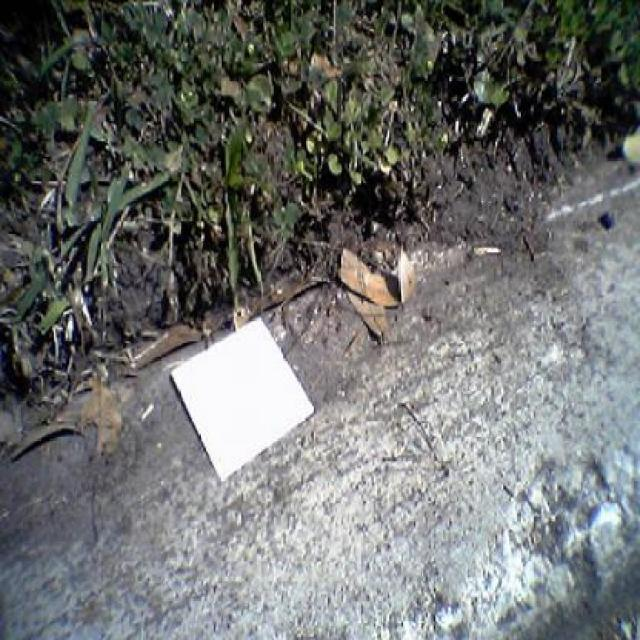garbage: (175, 355, 320, 427)
